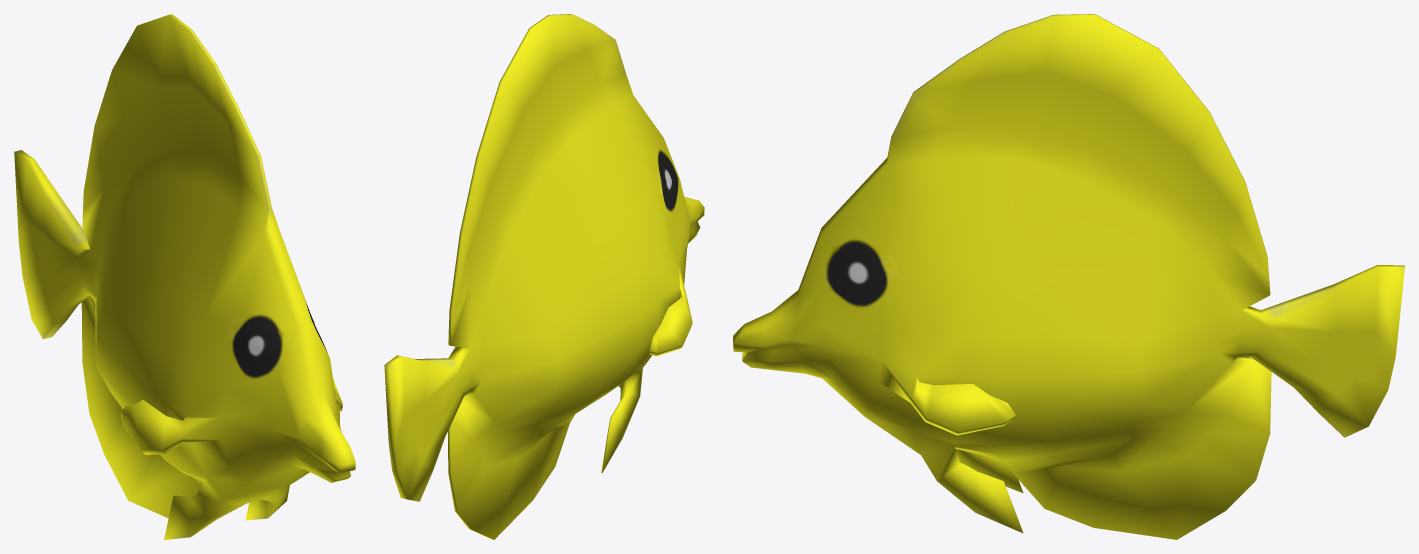
Rendered from Fish01.FBX.
The picture shows the model from 3 angles, left to right: view 1: azimuth 30°, elevation 25°; view 2: azimuth 150°, elevation 25°; view 3: azimuth 270°, elevation 25°; orthographic projection. The views are drawn at different scales.
Parts seen in each view (by area): view 1: TropicalFish05; view 2: TropicalFish05; view 3: TropicalFish05.
Part boxes in pixels (left/top/right/bottom): TropicalFish05: left=14, top=14, right=355, bottom=539; TropicalFish05: left=384, top=14, right=704, bottom=539; TropicalFish05: left=733, top=14, right=1404, bottom=539.
Bounding box in the file's own units: 152 × 389 × 452.
1 material, 1 textured.
